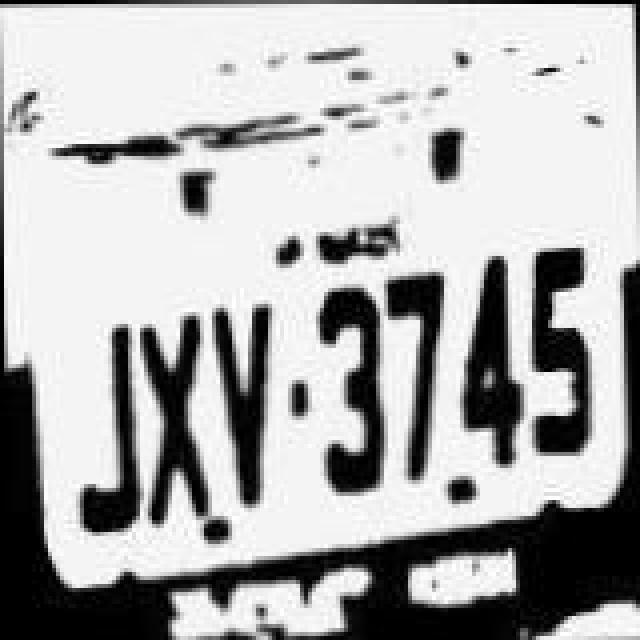3: (312, 282, 388, 498)
4: (454, 248, 530, 472)
5: (514, 226, 598, 462)
7: (380, 264, 452, 480)
J: (64, 312, 140, 536)
V: (208, 296, 284, 504)
X: (136, 310, 212, 526)
